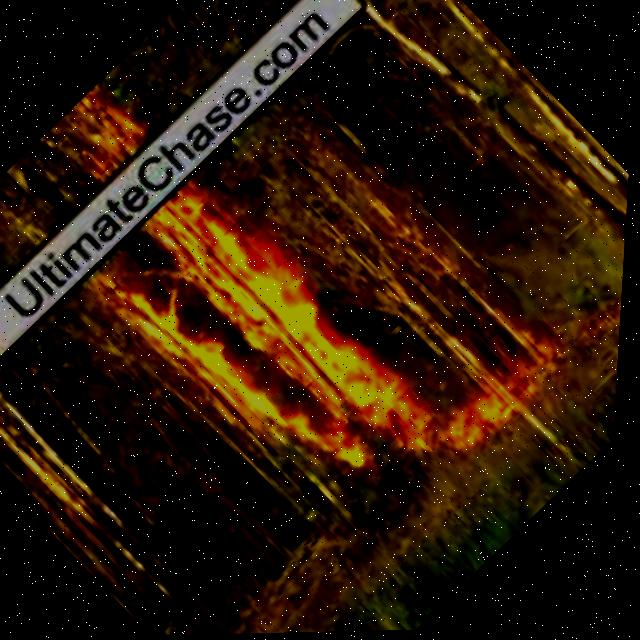Fire: (75, 155, 463, 532), (428, 353, 569, 489), (40, 73, 166, 195)
